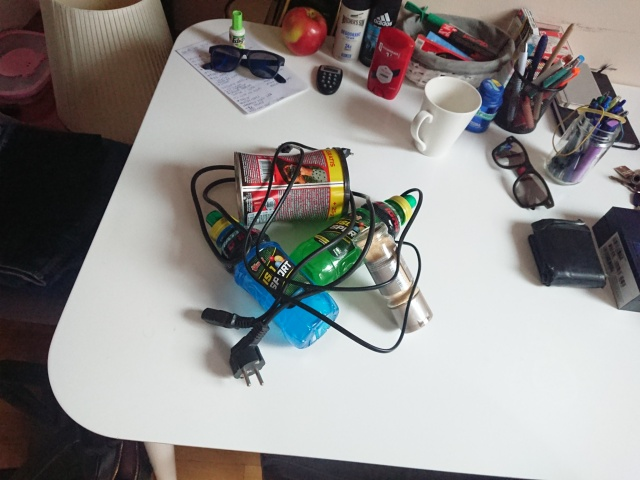Kotanyi Garlic Granules 70g: (350, 219, 434, 335)
Nescafe Classic 225g: (230, 146, 356, 229)
Vindi Iso Sport Forest Strawberries 500mL: (204, 208, 341, 351)
Vindi Iso Sport Lemon-Grapefruit 500mL: (287, 193, 419, 289)
